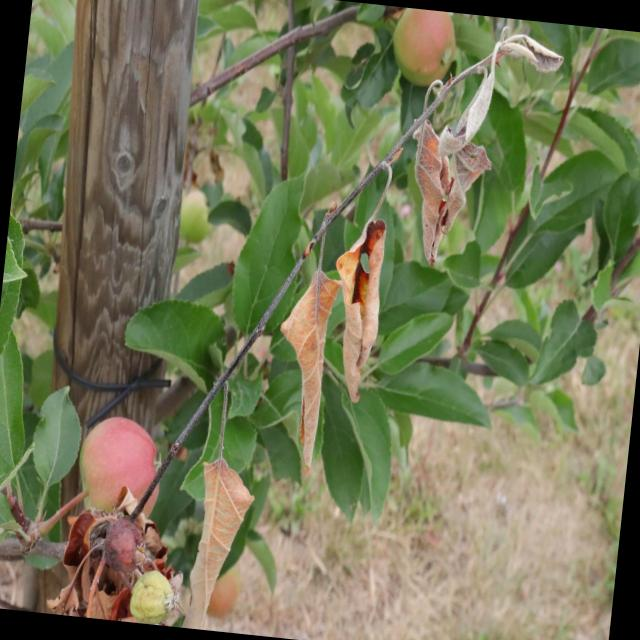-FireBlight-: (38, 474, 175, 625), (324, 225, 384, 402), (187, 452, 245, 632), (414, 112, 479, 262), (464, 15, 559, 111), (286, 257, 336, 410)
